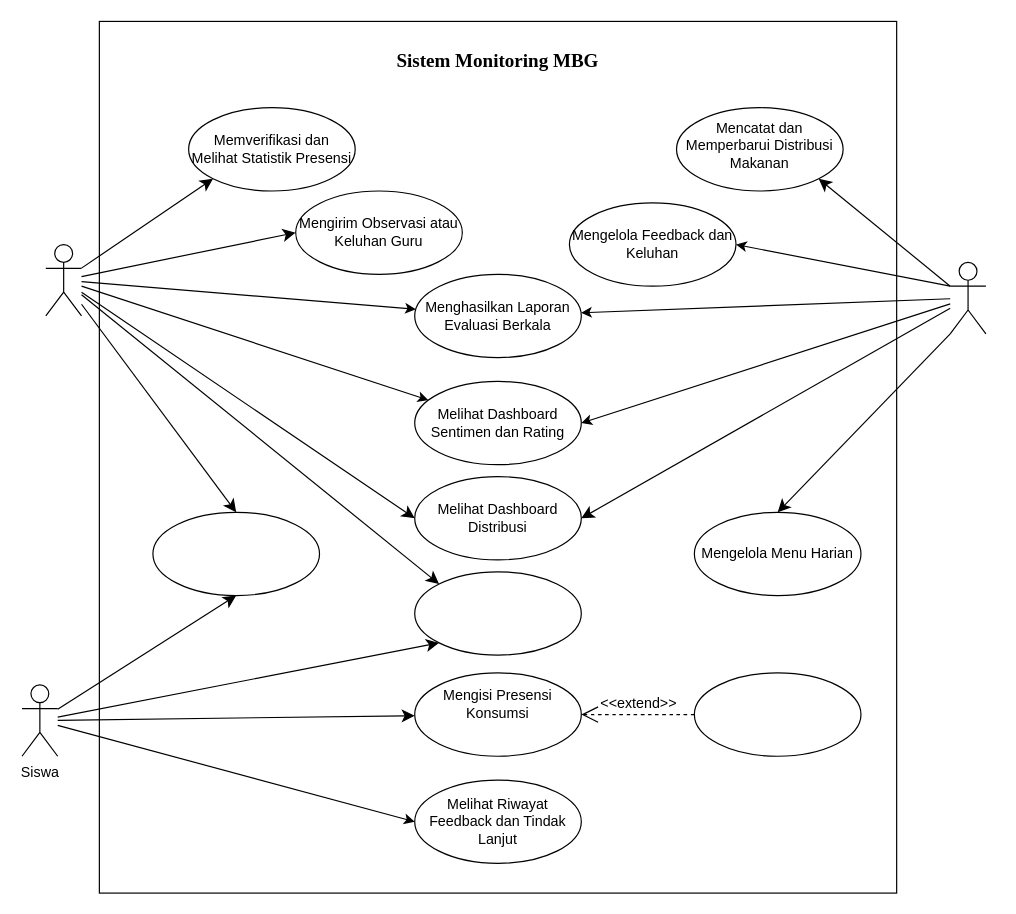
The diagram is 1016 pixels wide and 914 high, and some of its shapes have lost their labels. Here are the shapes that lost their labels. From the top down, the centre of each, then its label:
(x=63, y=279): Guru Pembina
(x=967, y=297): Operator Dapur
(x=236, y=553): Melihat Informasi Menu dan Jadwal Distribusi
(x=497, y=613): Login/Logout
(x=777, y=714): Memberikan Feedback dan Rating Makanan
